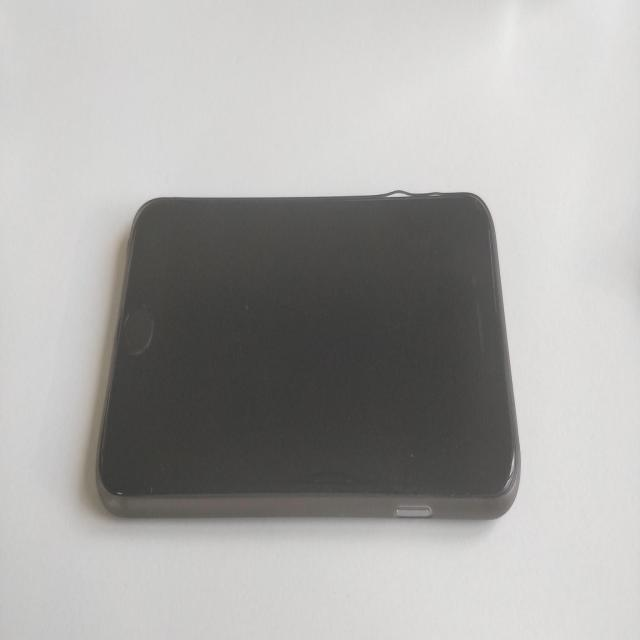Phone: (96, 192, 521, 520)
